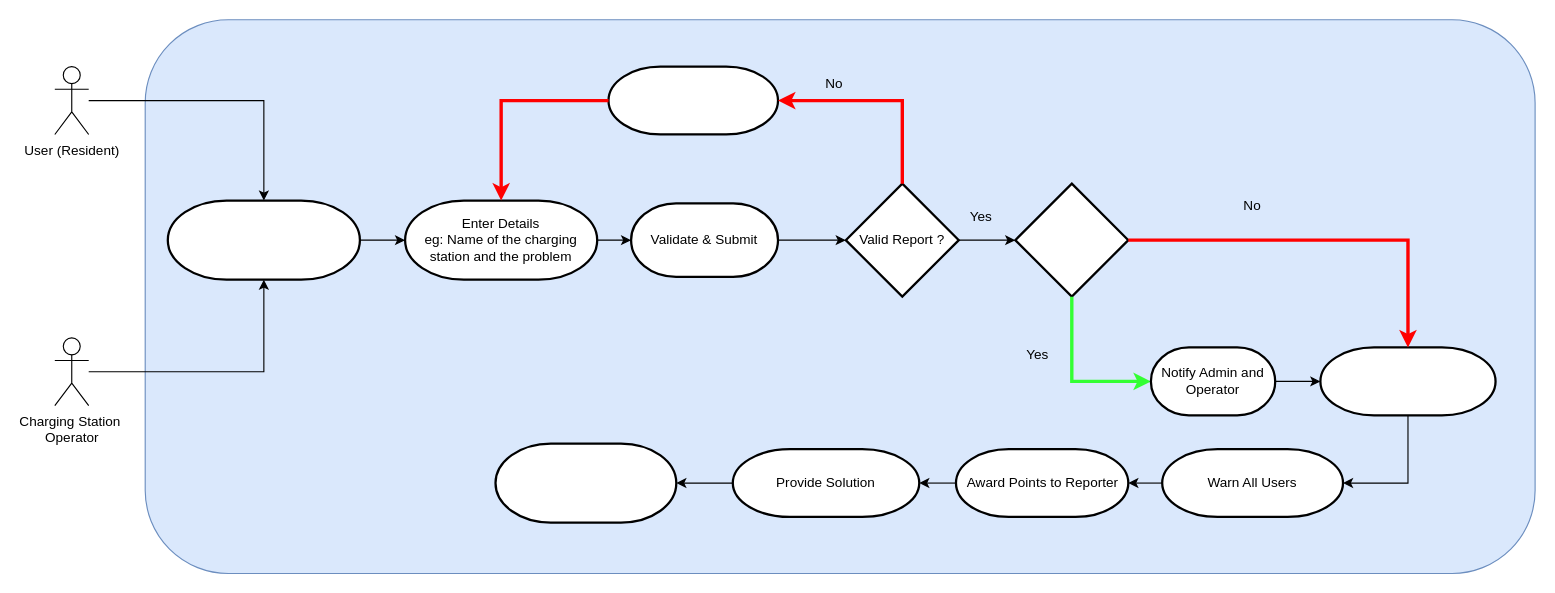
The diagram is 1555 pixels wide and 593 high, and some of its shapes have lost their labels. Here are the shapes that lost their labels. From the top down, the centre of each, then its label:
[693,100]: Ask User to Correct
[263,239]: START: Open Malfunction Report
[1071,239]: Is User == Resident ??
[1407,381]: Publish Incident
[585,482]: END: Issue Status Updated as "Resolved"
